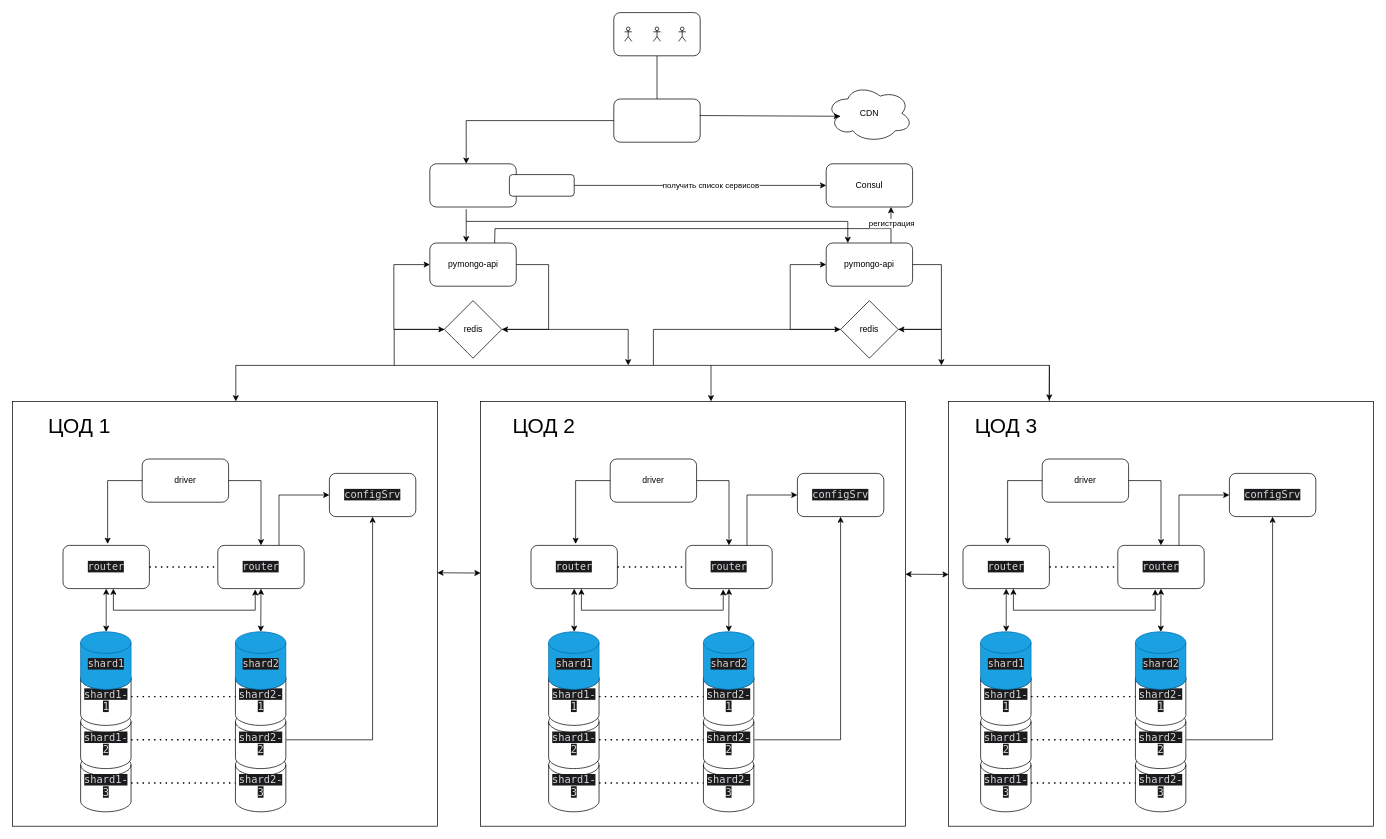
The diagram is 1386 pixels wide and 839 high, and some of its shapes have lost their labels. Here are the shapes that lost their labels. From the top down, the box of each, then its label:
(613, 98, 700, 142): Сайт React/Nginx
(429, 163, 516, 207): APISIX Gateway
(509, 174, 574, 196): consul_kv
